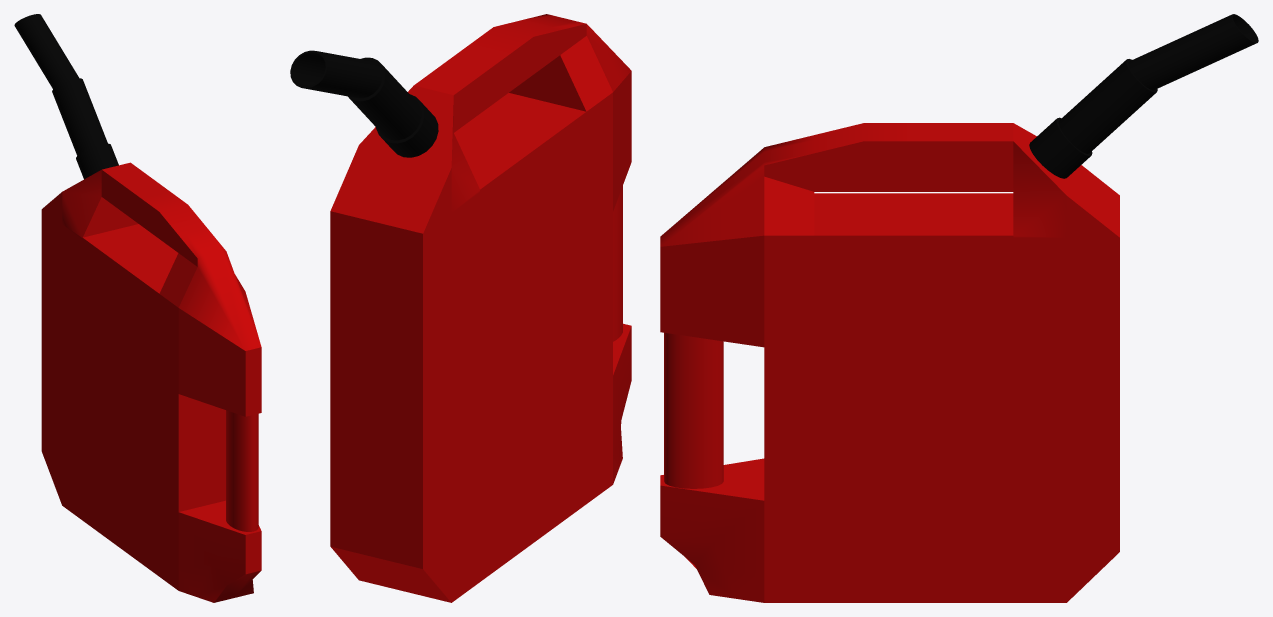
Rendered from jug.fbx.
The picture shows the model from 3 angles, left to right: view 1: azimuth 30°, elevation 25°; view 2: azimuth 150°, elevation 25°; view 3: azimuth 270°, elevation 25°; orthographic projection. The views are drawn at different scales.
Parts seen in each view (by area): view 1: Jug; view 2: Jug; view 3: Jug.
Boxes of the visible parts, left/top/right/bottom form: Jug: left=14, top=14, right=261, bottom=602; Jug: left=290, top=14, right=631, bottom=602; Jug: left=660, top=14, right=1258, bottom=602.
Size of the model in its own units: 0.2278 by 1.42 by 1.36.
